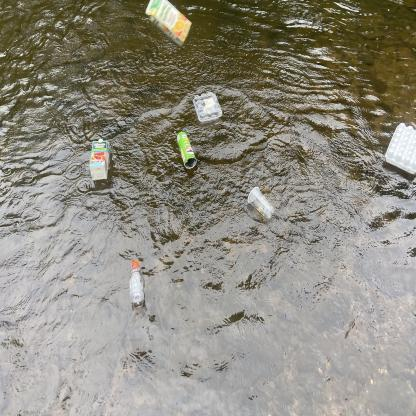trash: (144, 0, 192, 51), (381, 120, 416, 179), (190, 89, 223, 124), (88, 136, 112, 184), (246, 182, 276, 220), (175, 128, 199, 172), (128, 258, 144, 310)
